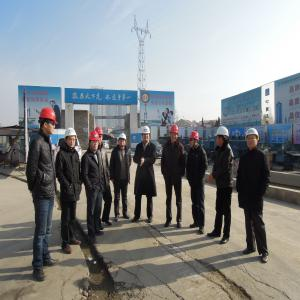none: (170, 111, 174, 119), (166, 109, 170, 115), (166, 120, 170, 125)
red: (38, 107, 57, 136), (88, 130, 101, 153), (189, 131, 201, 150), (169, 125, 180, 143), (95, 128, 104, 145)
white: (246, 127, 261, 152), (216, 126, 231, 148), (64, 128, 78, 151), (142, 127, 151, 143), (118, 134, 128, 148), (50, 100, 56, 108)
